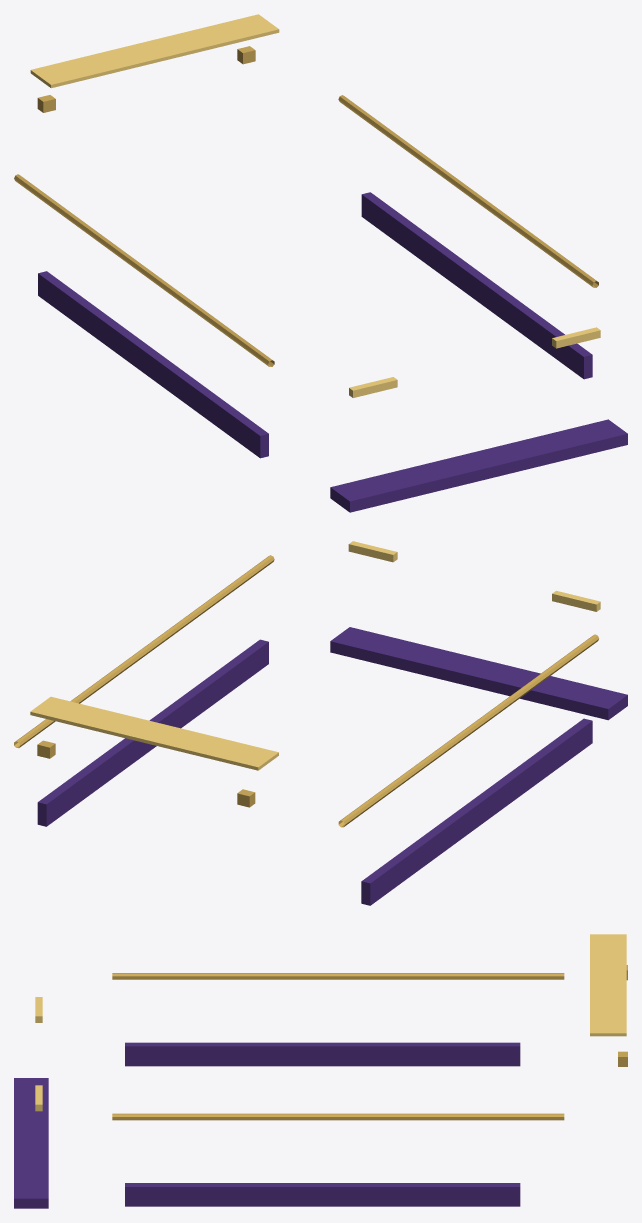
The model's file is black_maria_royal_dress.obj.
3 renders of one model, top to bottom at view 1: azimuth 30°, elevation 25°; view 2: azimuth 150°, elevation 25°; view 3: azimuth 270°, elevation 25°, orthographic. The views are drawn at different scales.
Visible parts, largest first — view 1: ROYAL_SKIRTS, ROYAL_LIP, WING_EDGE, GOLD_SPEAR, ROYAL_FRONT; view 2: ROYAL_SKIRTS, ROYAL_LIP, WING_EDGE, GOLD_SPEAR, ROYAL_FRONT, ROYAL_REAR; view 3: ROYAL_SKIRTS, GOLD_SPEAR, ROYAL_LIP, WING_EDGE, ROYAL_FRONT.
Boxes of the visible parts, x1,y1,x2,y2 form: ROYAL_SKIRTS: (38,192,592,458); ROYAL_LIP: (330,419,627,512); WING_EDGE: (30,14,279,88); GOLD_SPEAR: (14,95,598,366); ROYAL_FRONT: (349,327,600,397); ROYAL_SKIRTS: (37,639,592,905); ROYAL_LIP: (330,627,627,720); WING_EDGE: (30,696,278,770); GOLD_SPEAR: (14,555,599,827); ROYAL_FRONT: (348,541,600,611); ROYAL_REAR: (37,740,255,807); ROYAL_SKIRTS: (125,1042,520,1206); GOLD_SPEAR: (112,973,564,1120); ROYAL_LIP: (14,1078,48,1208); WING_EDGE: (590,934,626,1036); ROYAL_FRONT: (35,997,42,1111).
Size of the model in its own units: 1.87 by 0.99 by 3.35.
